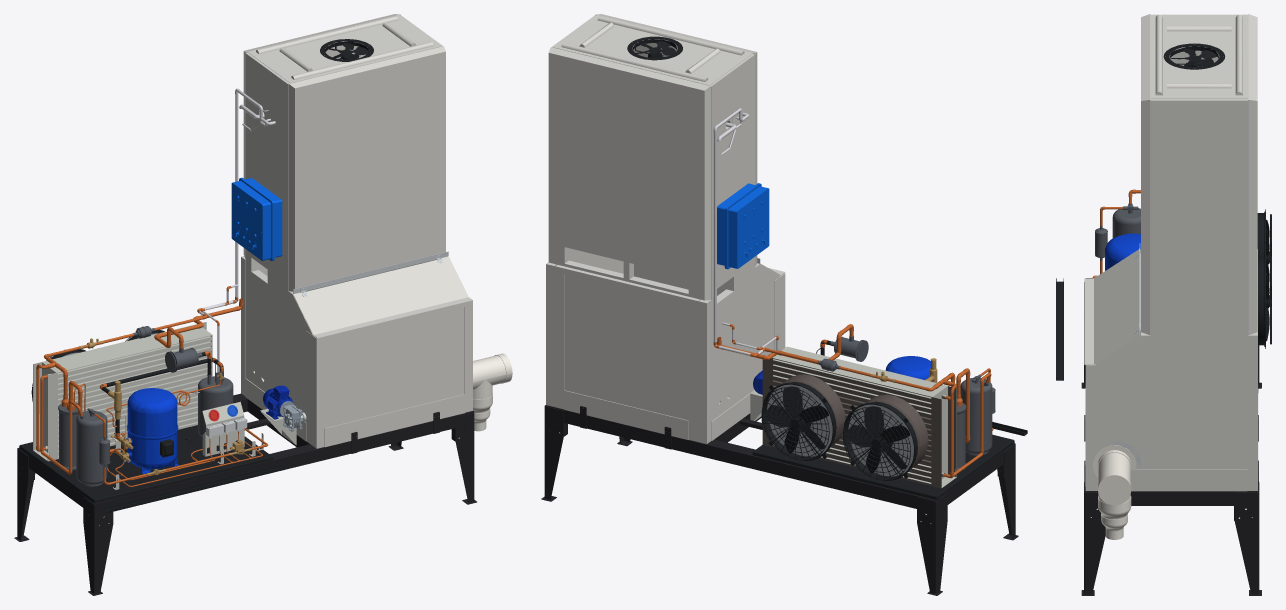
3 renders of one model, left to right at view 1: azimuth 30°, elevation 25°; view 2: azimuth 150°, elevation 25°; view 3: azimuth 270°, elevation 25°, orthographic. The views are drawn at different scales.
Bounding box in the file's own units: 3.45 × 3.39 × 1.33.
